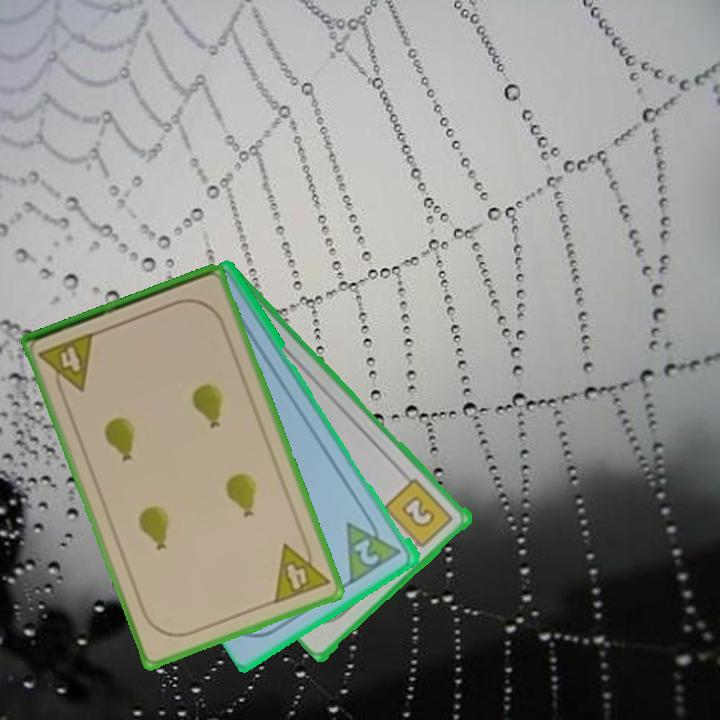2b: (381, 475, 457, 553)
2p: (351, 535, 383, 569)
4p: (270, 533, 333, 607), (35, 328, 98, 400)
